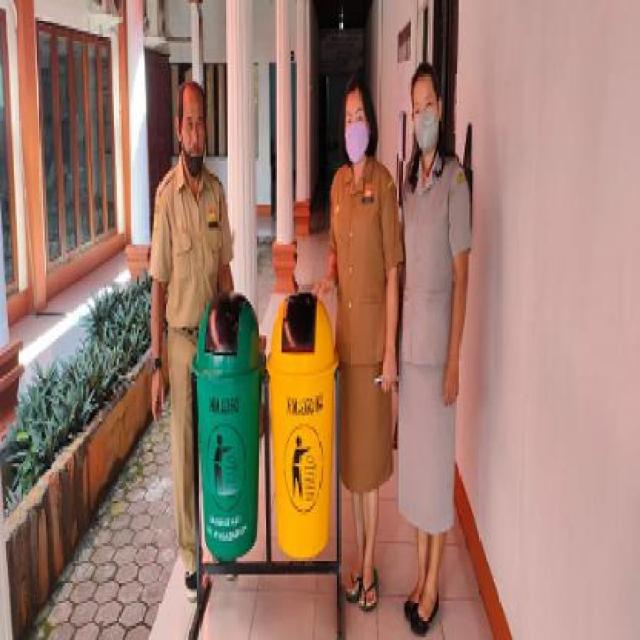garbage container: (264, 284, 342, 574), (188, 285, 266, 569)
